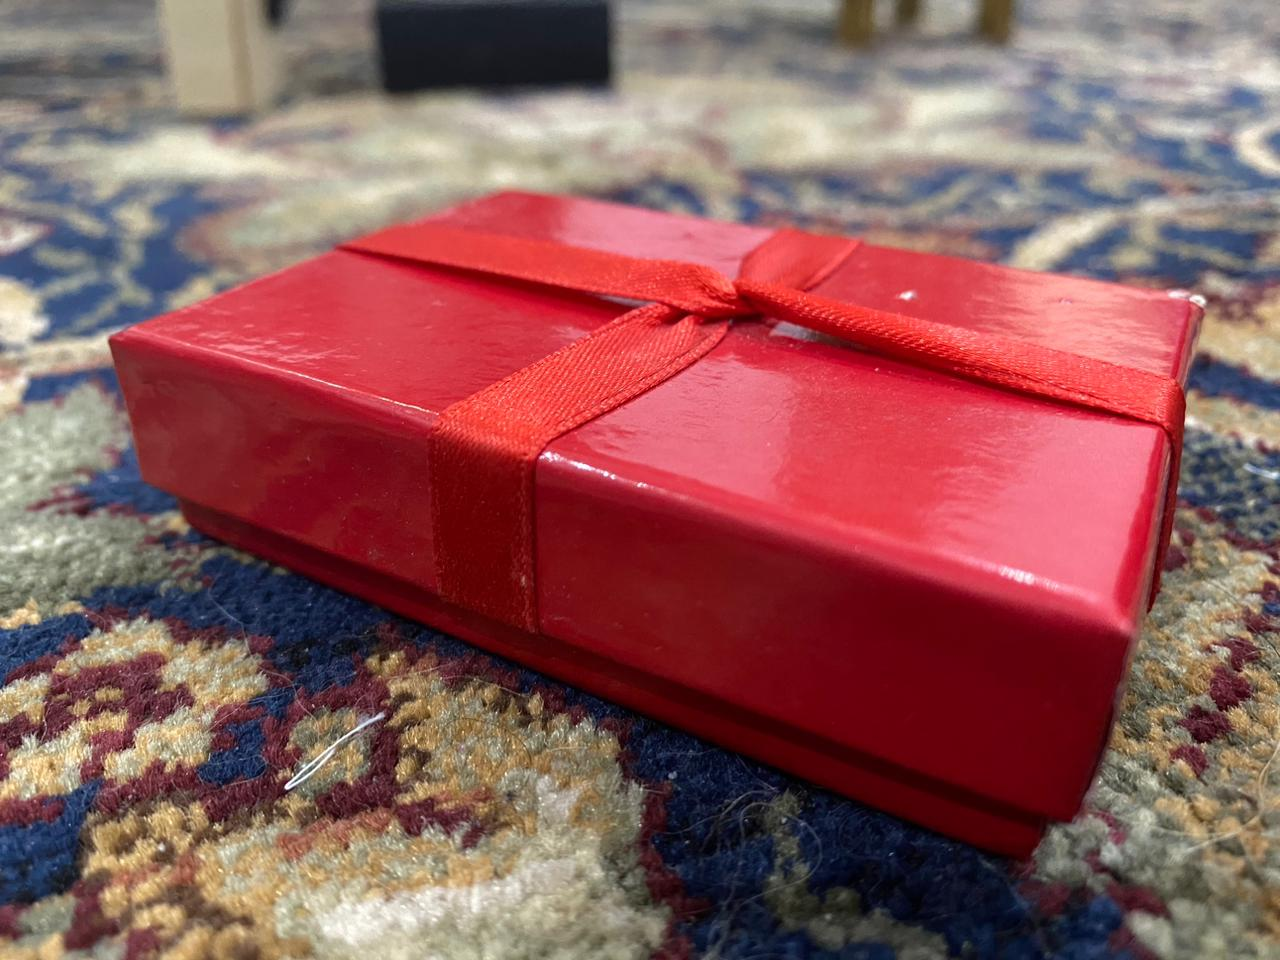Black Box: (372, 4, 617, 88)
Red Box: (105, 188, 1201, 857)
Yellow Box: (162, 1, 264, 119)
